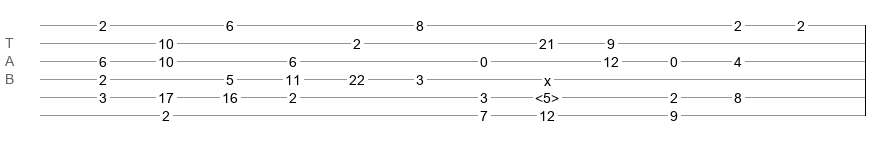0: (480, 54, 488, 64), (670, 54, 678, 64)
10: (158, 36, 174, 46), (158, 54, 174, 64)
11: (285, 72, 301, 82)
12: (539, 108, 555, 118), (603, 54, 619, 64)
16: (222, 90, 238, 100)
17: (158, 90, 174, 100)
2: (99, 72, 107, 82), (99, 18, 107, 28), (162, 108, 170, 118), (289, 90, 297, 100), (353, 36, 361, 46), (670, 90, 678, 100), (734, 18, 742, 28), (797, 18, 805, 28)
21: (539, 36, 555, 46)
22: (349, 72, 365, 82)
3: (99, 90, 107, 100), (416, 72, 424, 82), (480, 90, 488, 100)
4: (734, 54, 742, 64)
5: (226, 72, 234, 82)
6: (99, 54, 107, 64), (226, 18, 234, 28), (289, 54, 297, 64)
7: (480, 108, 488, 118)
8: (416, 18, 424, 28), (734, 90, 742, 100)
9: (607, 36, 615, 46), (670, 108, 678, 118)
harmonic: (535, 90, 559, 100)
x: (544, 73, 551, 81)
